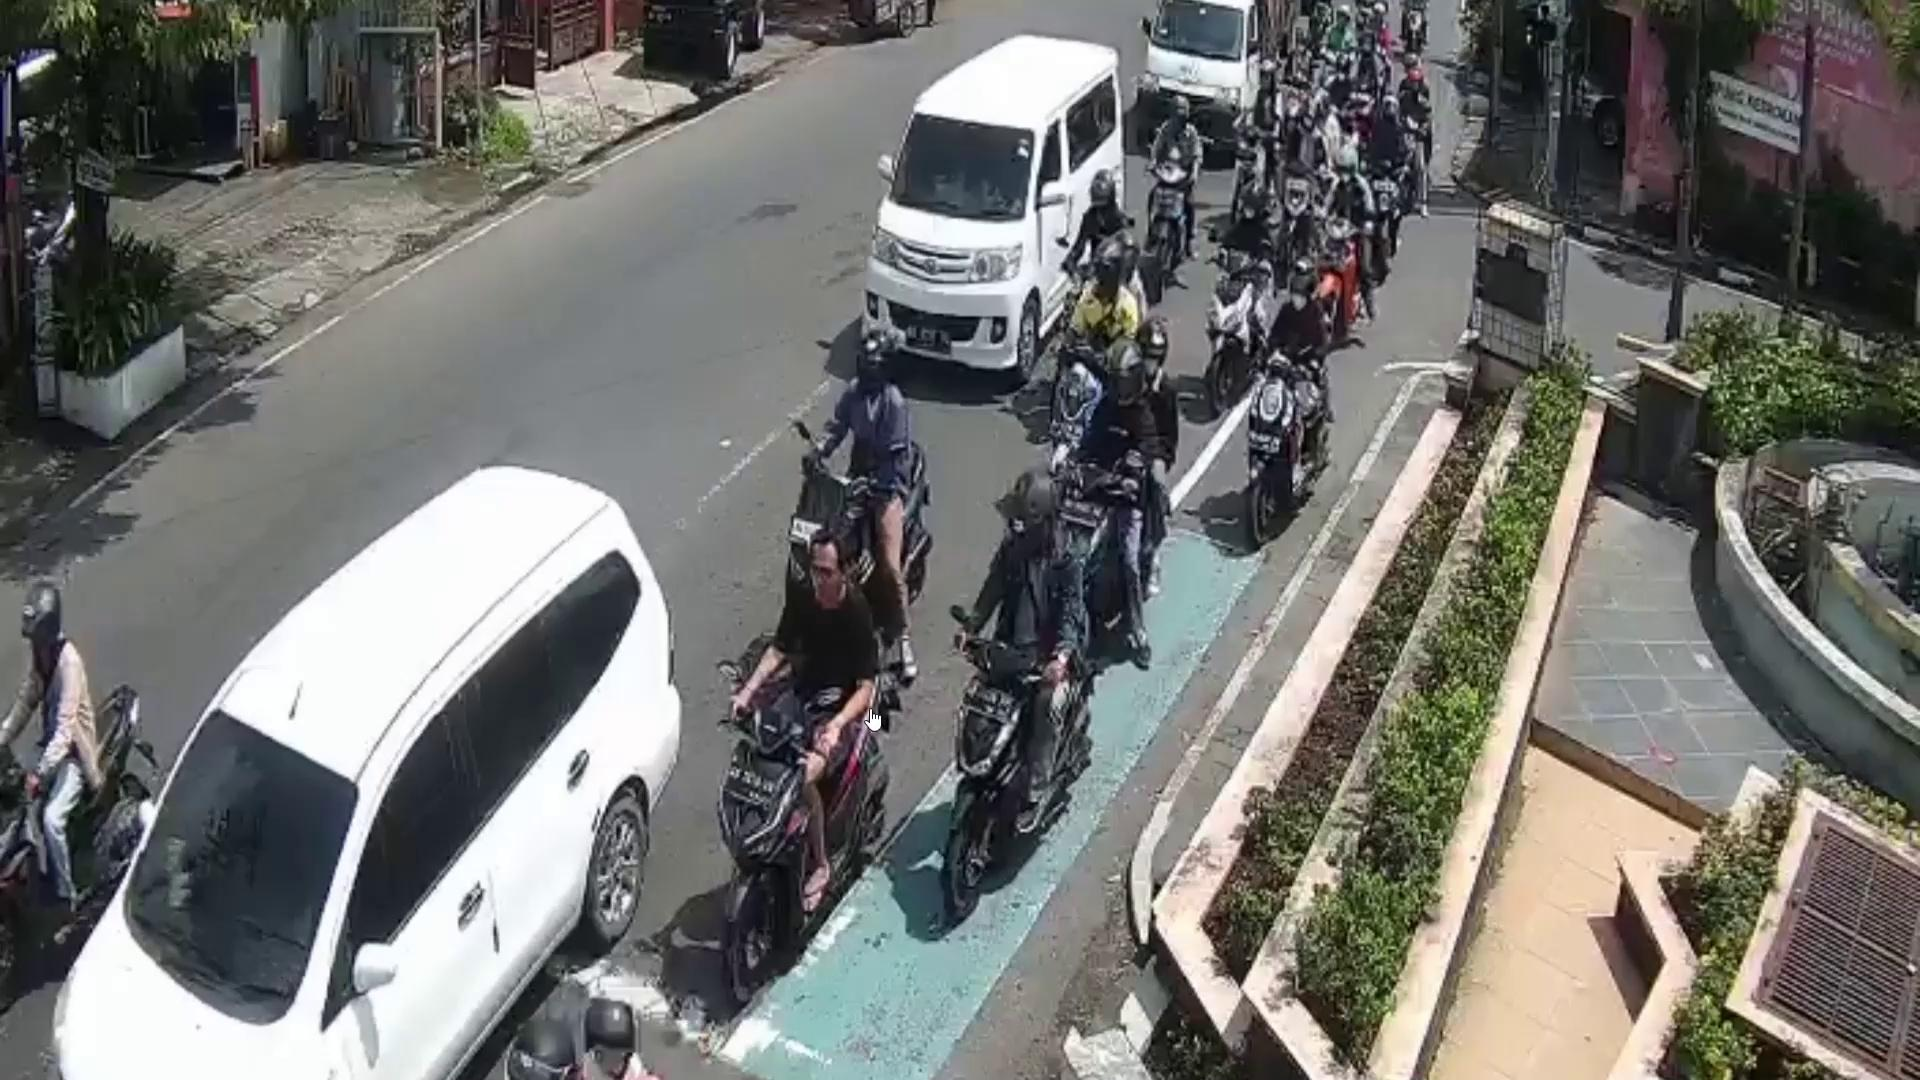car: (50, 465, 682, 1080), (864, 33, 1124, 380), (1139, 0, 1274, 150)
motorbike: (717, 696, 885, 997), (943, 632, 1092, 918), (786, 442, 930, 613), (1250, 348, 1302, 547), (1209, 247, 1263, 413), (1059, 456, 1127, 567), (1142, 150, 1188, 295)
